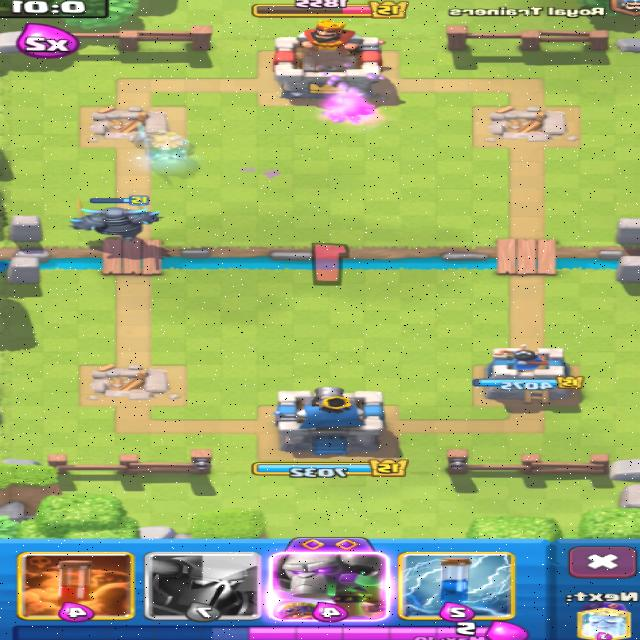Enemy-KingTower-Activated: (274, 21, 383, 98)
Player-KingTower-Activated: (274, 387, 386, 454)
Player-PEKKA: (71, 207, 163, 240)
Player-PrincessTower: (473, 344, 584, 402), (90, 364, 169, 396)
Player-RoyalGhost-Invisible: (133, 125, 187, 159)
